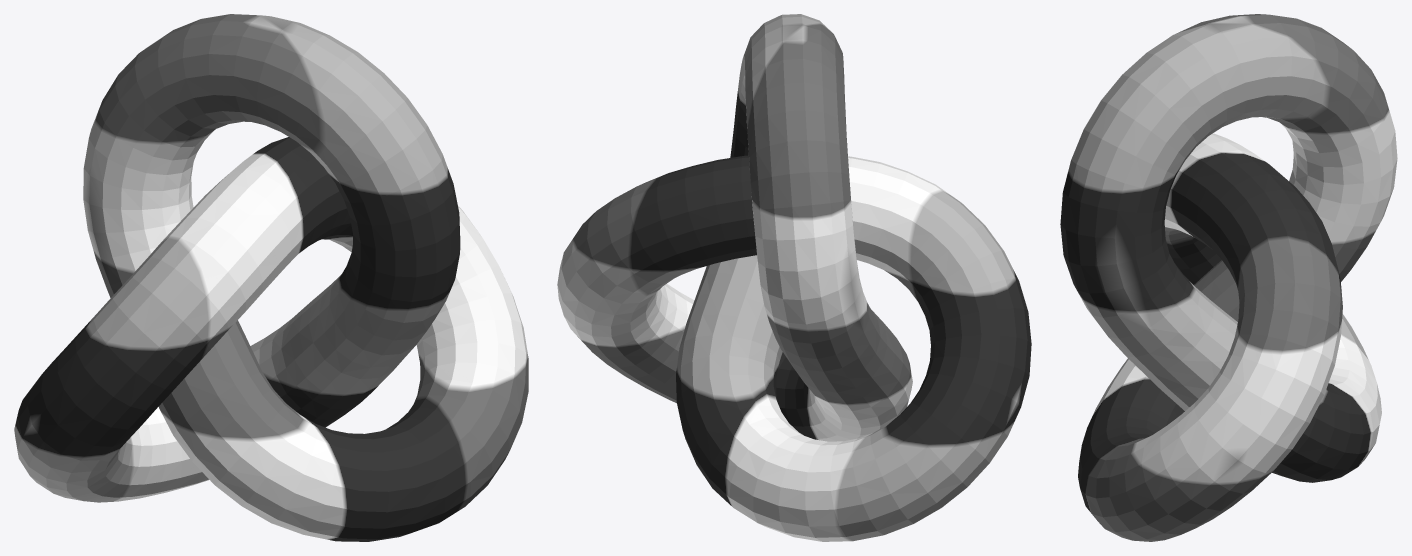
Rendered from pretzel-test-texture.obj.
3 views of the same model, side by side, from view 1: azimuth 30°, elevation 25°; view 2: azimuth 150°, elevation 25°; view 3: azimuth 270°, elevation 25° (orthographic). The views are drawn at different scales.
Size of the model in its own units: 4.38 by 4.26 by 2.79.
Materials: 1 (1 with a texture image).
